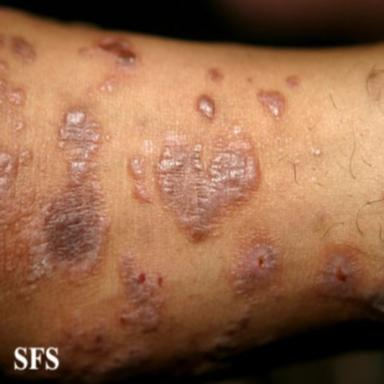lichen: (25, 102, 109, 286), (154, 126, 260, 244), (119, 251, 164, 331), (229, 232, 281, 297), (316, 245, 364, 299), (60, 321, 109, 356), (93, 36, 140, 70), (215, 308, 251, 350), (0, 150, 32, 193), (127, 155, 151, 203), (258, 90, 285, 120), (0, 77, 25, 105), (11, 36, 35, 64), (96, 75, 119, 94), (197, 95, 215, 119), (286, 75, 300, 89), (13, 116, 25, 132), (208, 69, 223, 81), (78, 47, 89, 55), (0, 35, 5, 48)
